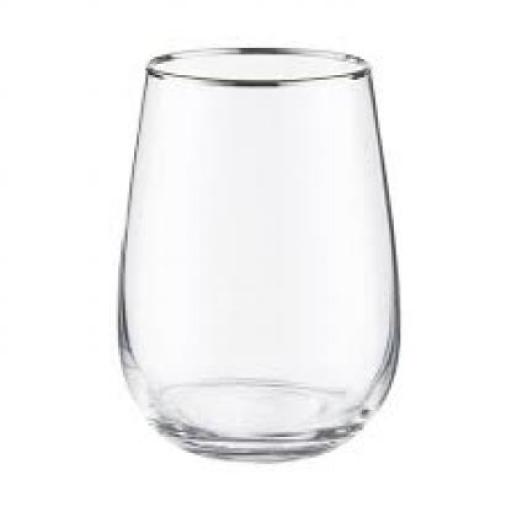glass: (116, 45, 398, 460)
